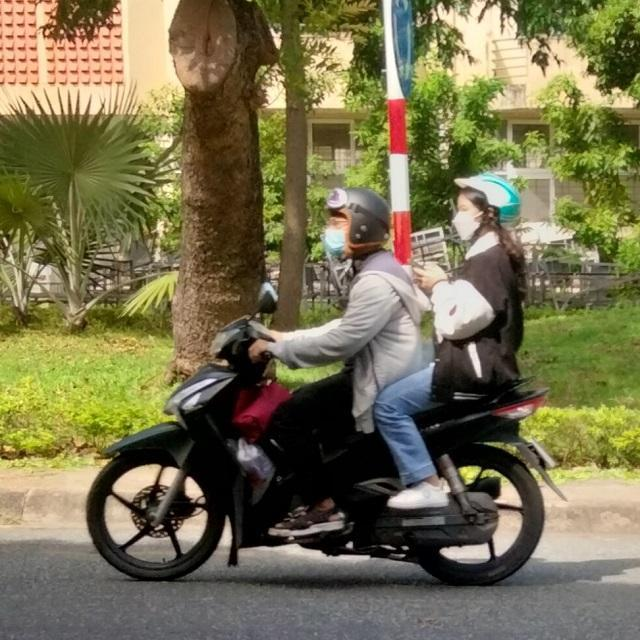Helmet: (451, 175, 524, 243), (321, 186, 391, 256)
